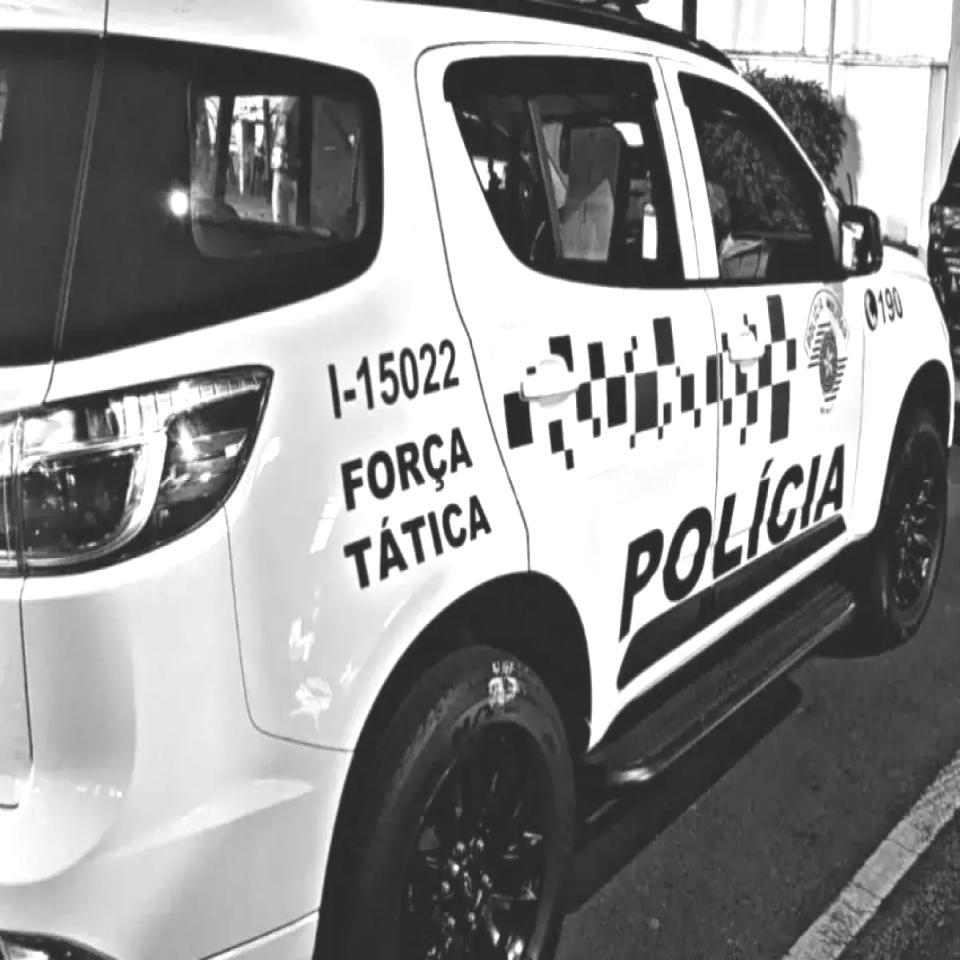viatura: (0, 0, 956, 960)
